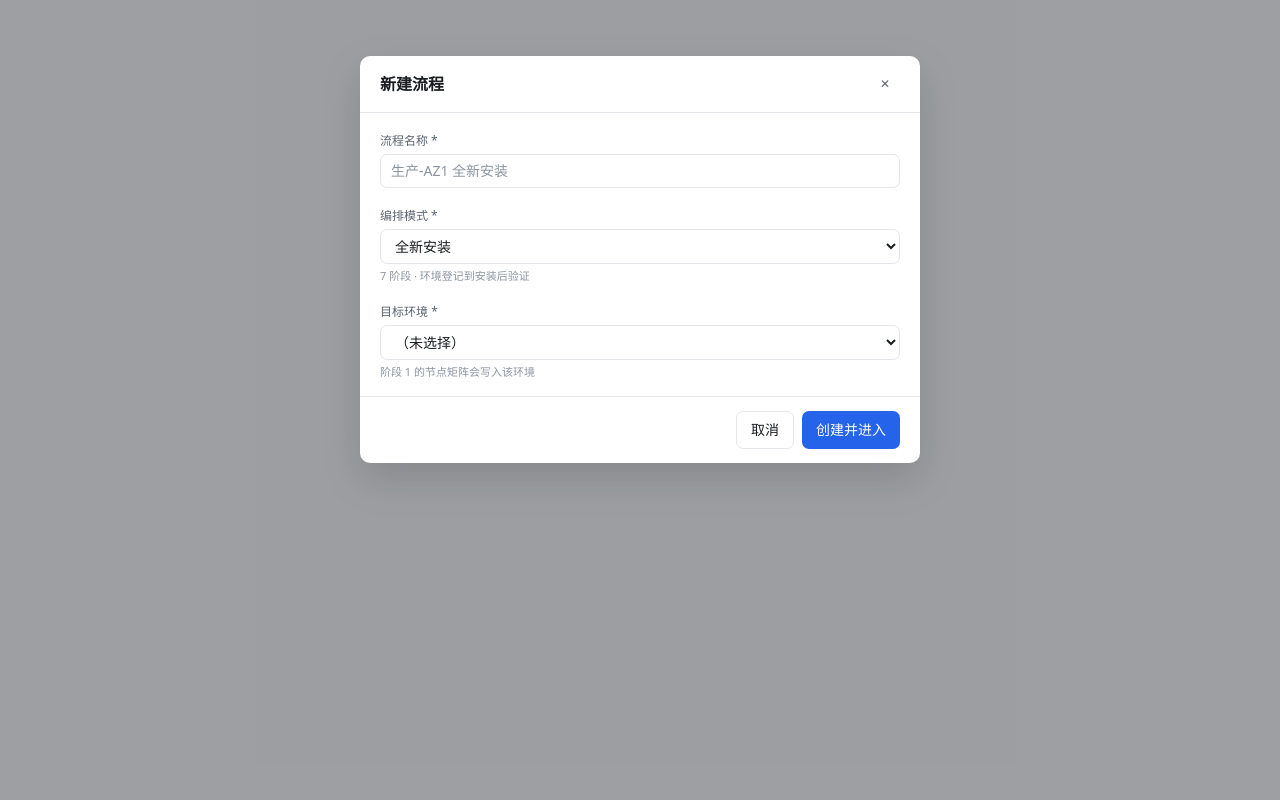
Test: NewFlowDialog › 提交 name/env_id/mode 三字段，名称去空格，成功后回传新流程 id
Type "  生产-AZ1 全新安装  " into the field labelled "流程名称 *" at (640, 171), box top-left (380, 154), bottom-right (900, 188)
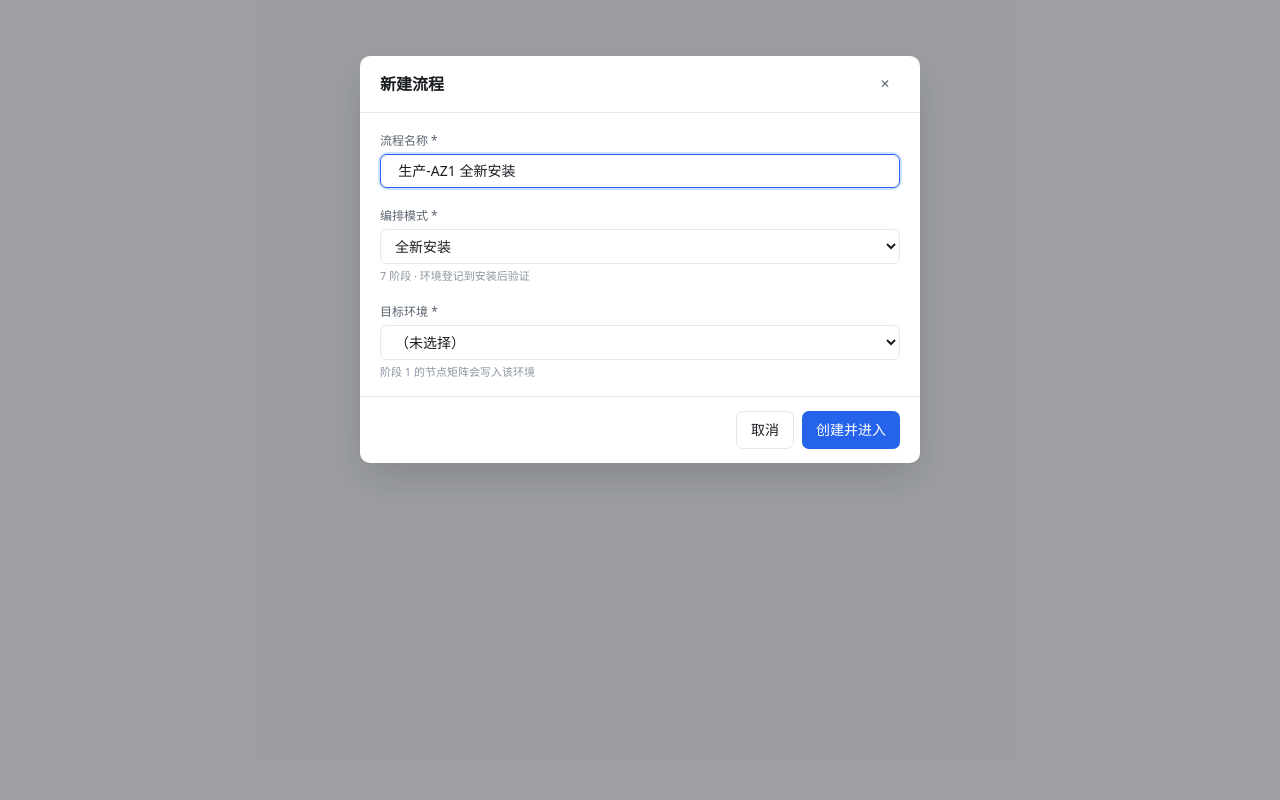
Select "预发-AZ2" in the dropdown labelled "目标环境 * 阶段 1 的节点矩阵会写入该环境" at (640, 342), box top-left (380, 325), bottom-right (900, 360)
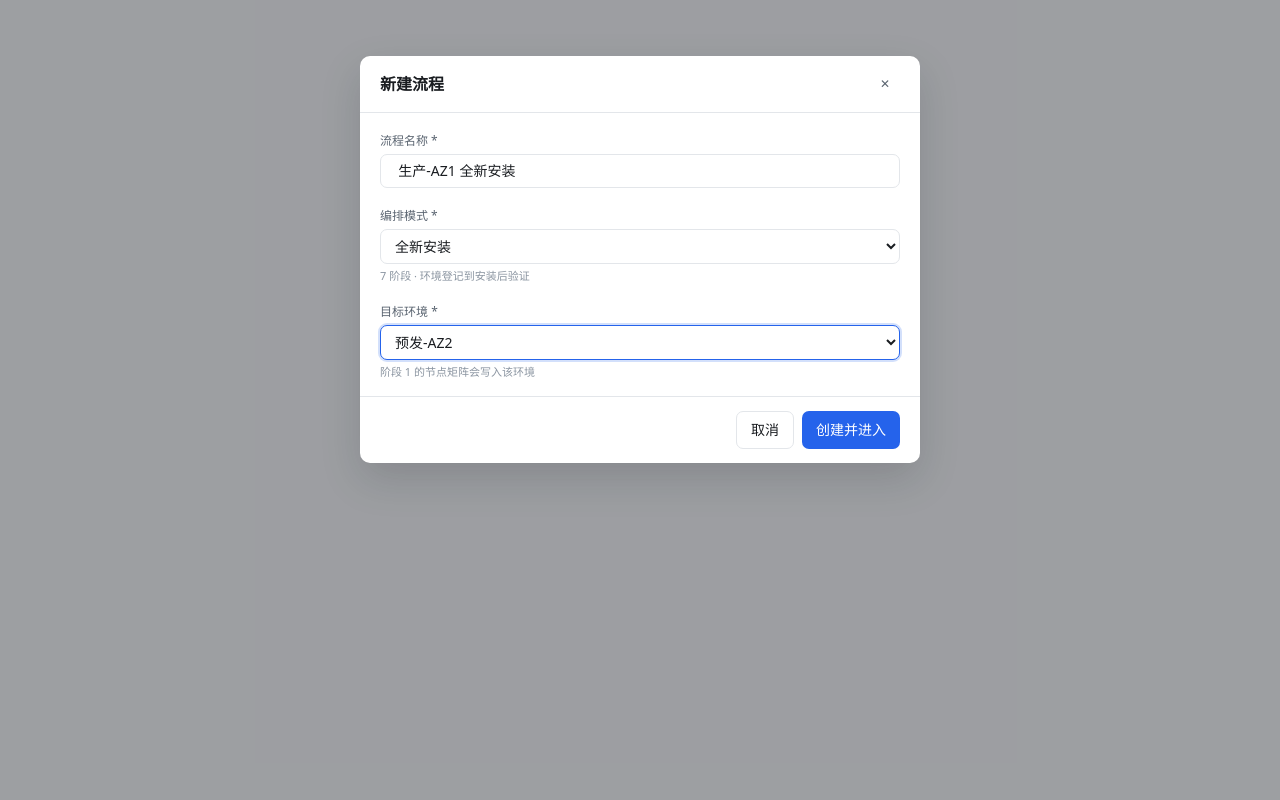
Select "K8s / Helm 升级" in the dropdown labelled "编排模式 * 7 阶段 · 环境登记到安装后验证" at (640, 246), box top-left (380, 229), bottom-right (900, 264)
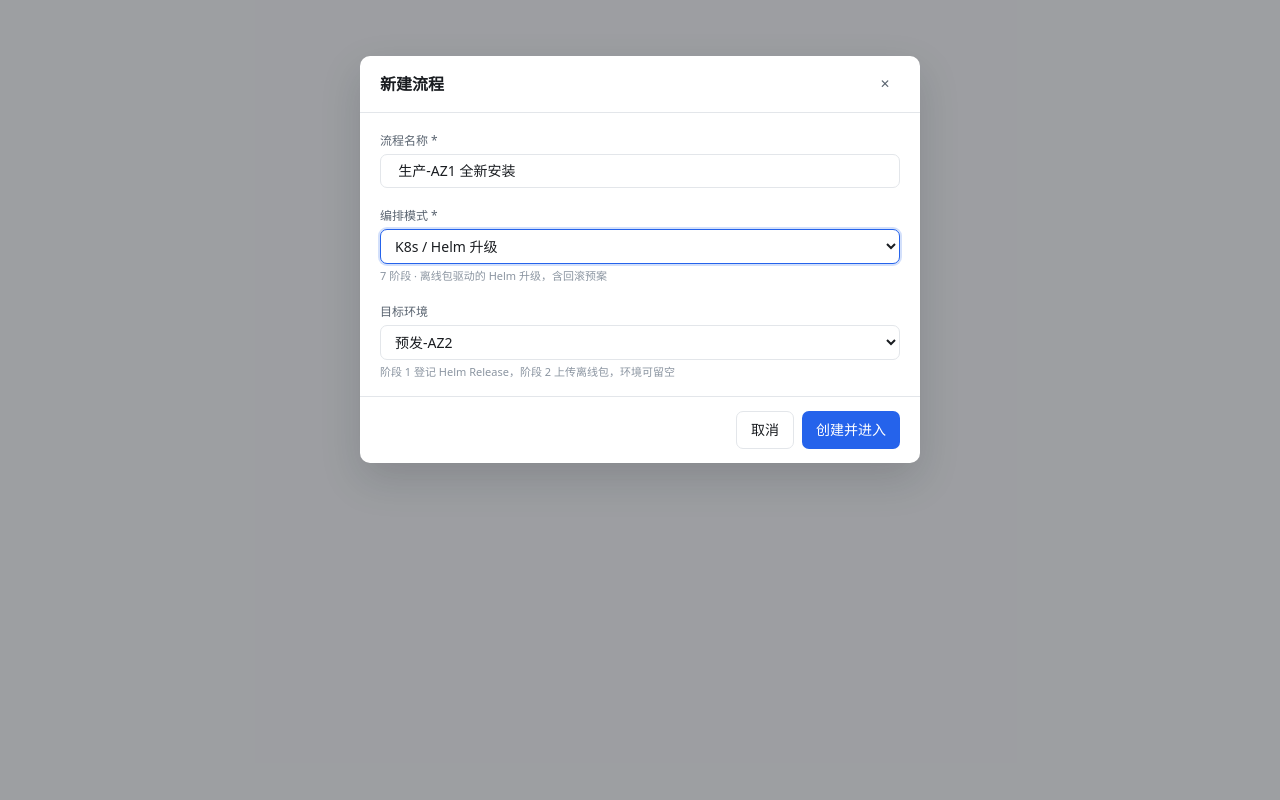
Click the button "创建并进入" at (851, 430), box top-left (802, 411), bottom-right (900, 449)
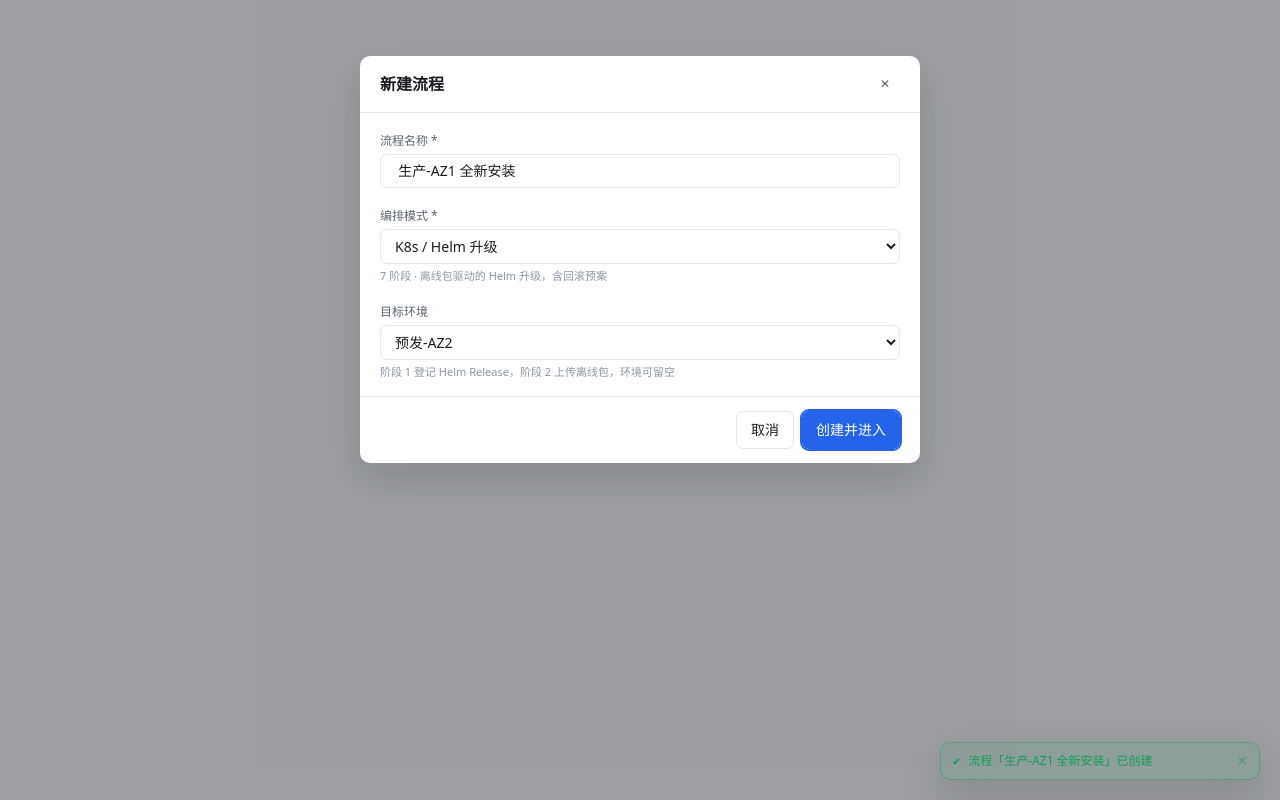
Now the text "流程「生产-AZ1 全新安装」已创建" is shown, box top-left (968, 752), bottom-right (1153, 769)
